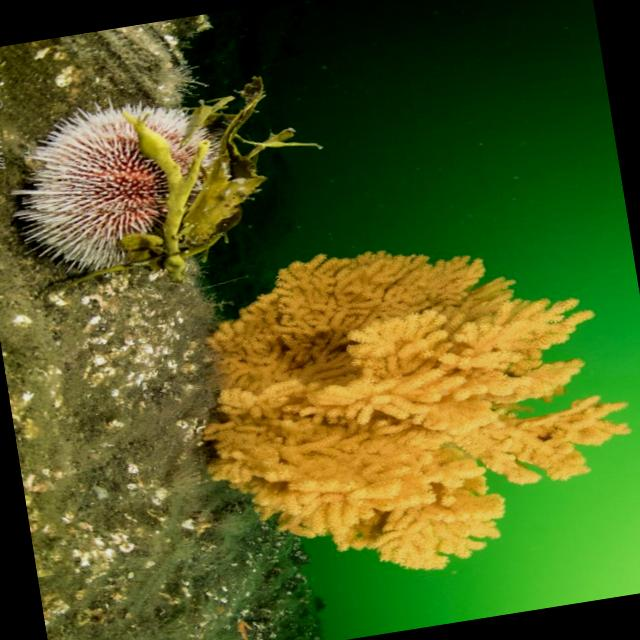Deniz Kestanesi: (0, 78, 243, 288)
